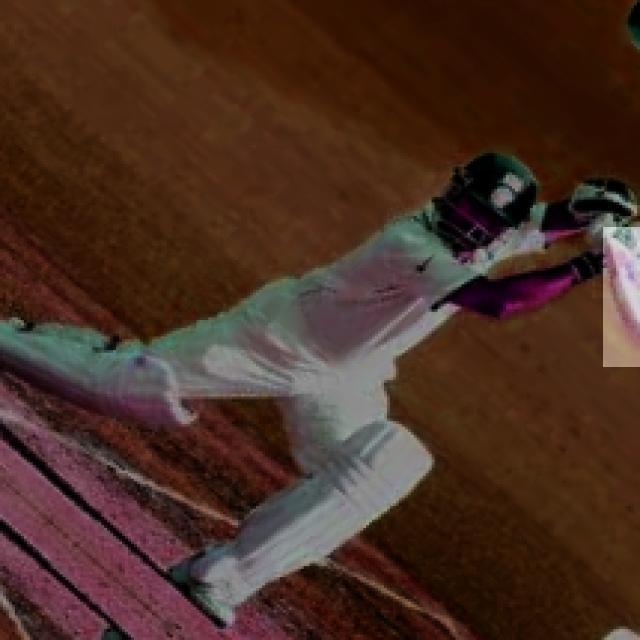bat: (603, 221, 640, 372)
